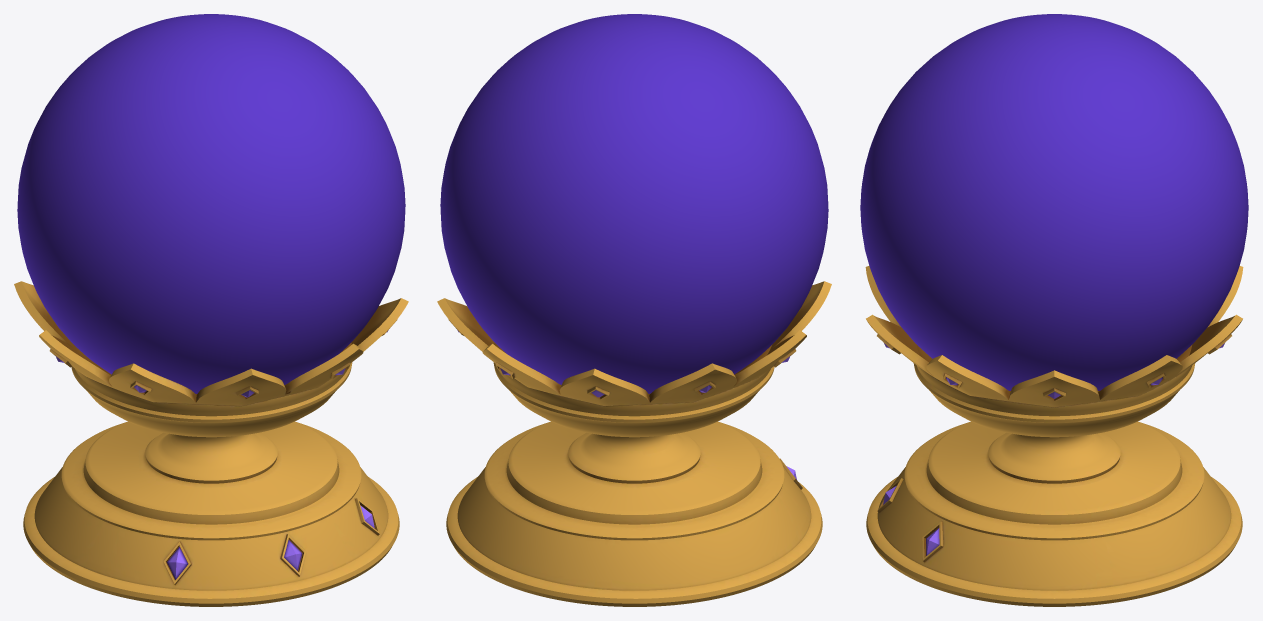
Rendered from adventurers_crystal_ball.glb.
3 views of the same model, side by side, from view 1: azimuth 30°, elevation 25°; view 2: azimuth 150°, elevation 25°; view 3: azimuth 270°, elevation 25° (orthographic).
Visible parts, largest first — view 1: Ball_Orb, Ball_Stand, Ball_Cup, Ball_Gems; view 2: Ball_Orb, Ball_Stand, Ball_Cup; view 3: Ball_Orb, Ball_Stand, Ball_Cup, Ball_Gems.
Part boxes in pixels (x1=…): Ball_Orb: x1=17, y1=14, x2=405, y2=393; Ball_Stand: x1=23, y1=421, x2=399, y2=606; Ball_Cup: x1=14, y1=281, x2=408, y2=437; Ball_Gems: x1=55, y1=330, x2=388, y2=579; Ball_Orb: x1=440, y1=14, x2=828, y2=393; Ball_Stand: x1=446, y1=421, x2=822, y2=606; Ball_Cup: x1=437, y1=281, x2=831, y2=437; Ball_Orb: x1=860, y1=14, x2=1248, y2=390; Ball_Stand: x1=866, y1=421, x2=1242, y2=606; Ball_Cup: x1=865, y1=266, x2=1243, y2=437; Ball_Gems: x1=883, y1=343, x2=1224, y2=555.
Size of the model in its own units: 0.1329 by 0.184 by 0.13.
2 materials, 1 textured.
